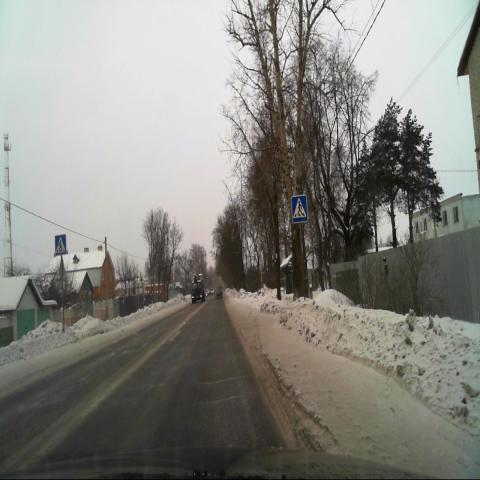5_19_1: (290, 195, 308, 222)
